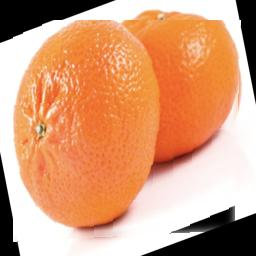Orange Fresh: (13, 21, 241, 243)
